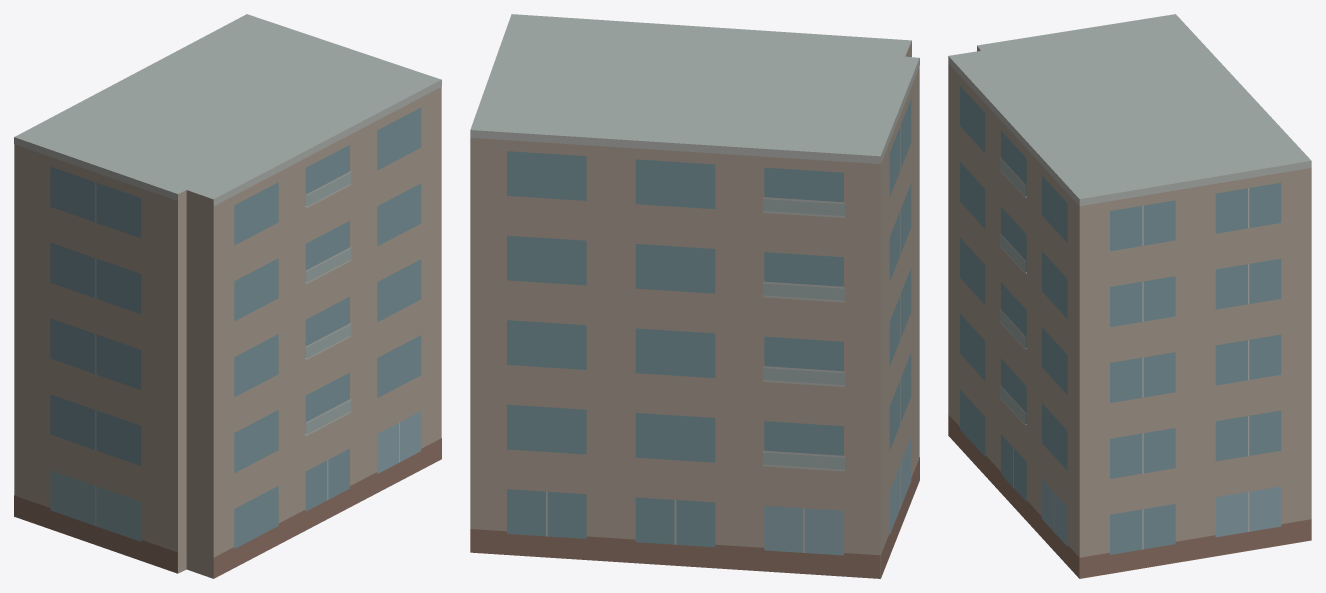
The model's file is survey-upis-33012296.glb.
3 renders of one model, left to right at view 1: azimuth 30°, elevation 25°; view 2: azimuth 150°, elevation 25°; view 3: azimuth 270°, elevation 25°, orthographic. The views are drawn at different scales.
Visible parts, largest first — view 1: survey-upis-33012296.tmp; view 2: survey-upis-33012296.tmp; view 3: survey-upis-33012296.tmp.
Part boxes in pixels (x1=…): survey-upis-33012296.tmp: x1=14, y1=14, x2=441, y2=578; survey-upis-33012296.tmp: x1=470, y1=14, x2=919, y2=578; survey-upis-33012296.tmp: x1=948, y1=14, x2=1311, y2=578.
Size of the model in its own units: 13.83 by 13.2 by 11.46.
